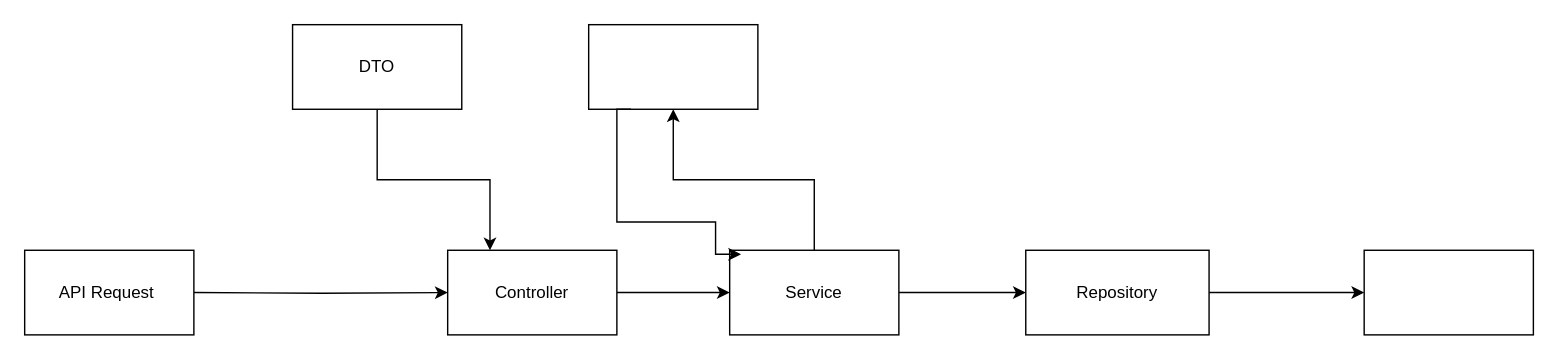
This 1558x360 diagram has some shape labels left out. The shapes that lost their labels are listed below. From the top down, each one's centre as x and y in pixels, then its label:
pixel 672 66: Enitity
pixel 1448 292: Database
